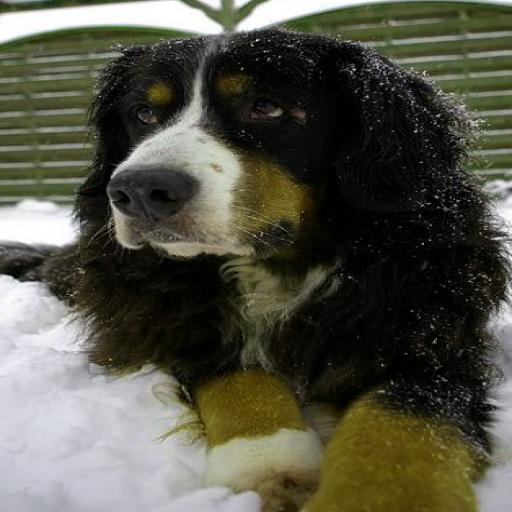dog_face: (80, 27, 419, 247)
